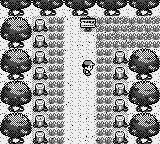captura: (95, 15, 160, 143), (49, 17, 63, 144)
leer: (81, 18, 95, 31)
main: (82, 61, 94, 75)
no-caminable: (1, 0, 160, 143), (129, 49, 160, 143), (32, 18, 48, 143), (114, 50, 128, 143)
